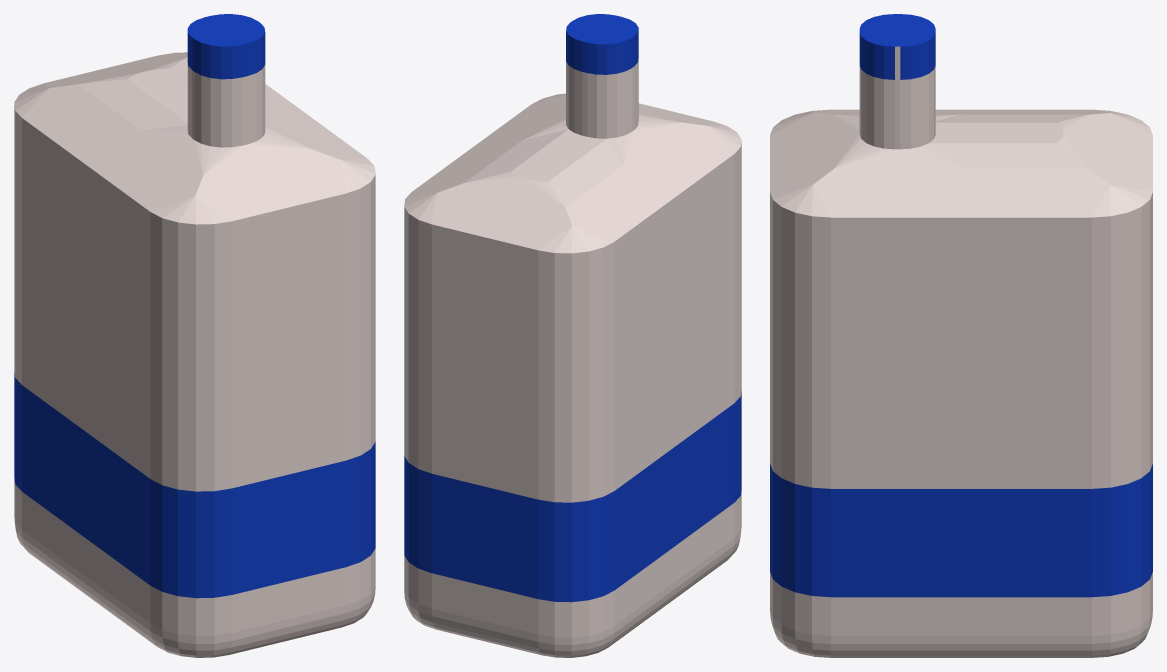
Rendered from whole_4pt.glb.
3 views of the same model, side by side, from view 1: azimuth 30°, elevation 25°; view 2: azimuth 150°, elevation 25°; view 3: azimuth 270°, elevation 25° (orthographic). The views are drawn at different scales.
Parts seen in each view (by area): view 1: Cube, Cube.001, Cube.002; view 2: Cube, Cube.001, Cube.002; view 3: Cube, Cube.001, Cube.002.
Part boxes in pixels (x1,y1,x2,y2): Cube: [14, 52, 375, 657]; Cube.001: [14, 372, 375, 598]; Cube.002: [187, 14, 265, 79]; Cube: [404, 58, 741, 657]; Cube.001: [404, 391, 741, 602]; Cube.002: [566, 14, 638, 74]; Cube: [770, 66, 1152, 657]; Cube.001: [770, 464, 1152, 597]; Cube.002: [859, 14, 935, 79].
Bounding box in the file's own units: 0.2 × 0.5 × 0.3.
